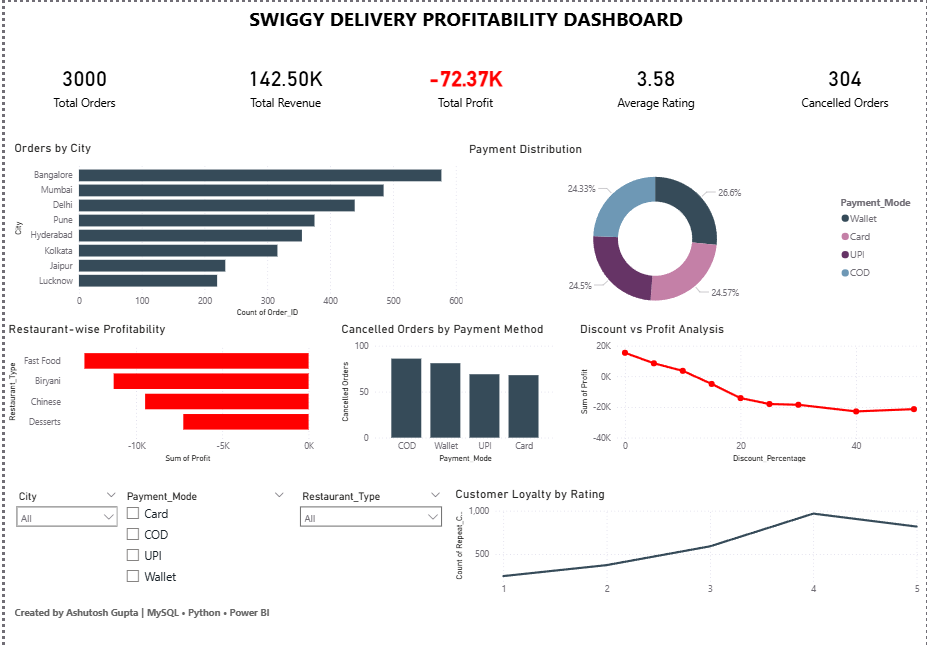

The page's visual inventory and layout, read from the dashboard file:
{"tool":"powerbi","page":{"name":"Page 1","canvas":[1280,900],"ordinal":0},"visuals":[{"type":"card","fields":{"Values":["CountNonNull(swiggy_delivery_profitability_dataset.Order_ID)"]},"box":[0,60.4,220,110],"z":0},{"type":"card","fields":{"Values":["Sum(swiggy_delivery_profitability_dataset.Net_Revenue)"]},"box":[280,60.4,220,110],"z":1000},{"type":"card","fields":{"Values":["Sum(swiggy_delivery_profitability_dataset.Profit)"]},"box":[530,60.4,220,110],"z":2000},{"type":"card","fields":{"Values":["Avg(swiggy_delivery_profitability_dataset.Rating)"]},"box":[793.3,60.4,220,110],"z":3000},{"type":"card","fields":{"Values":["swiggy_delivery_profitability_dataset.Cancelled Orders"]},"box":[1056.7,60,220,110],"z":4000},{"type":"clusteredBarChart","title":"Orders by City","fields":{"Category":["swiggy_delivery_profitability_dataset.City"],"Y":["CountNonNull(swiggy_delivery_profitability_dataset.Order_ID)"]},"box":[7.5,192.5,632.5,250],"z":5000},{"type":"donutChart","title":"Payment Distribution","fields":{"Category":["swiggy_delivery_profitability_dataset.Payment_Mode"],"Y":["CountNonNull(swiggy_delivery_profitability_dataset.Order_ID)"]},"box":[640,193.7,640,250],"z":6000},{"type":"clusteredBarChart","title":"Restaurant-wise Profitability","fields":{"Category":["swiggy_delivery_profitability_dataset.Restaurant_Type"],"Y":["Sum(swiggy_delivery_profitability_dataset.Profit)"]},"box":[0,443.7,433.3,200],"z":7000},{"type":"clusteredColumnChart","title":"Cancelled Orders by Payment Method","fields":{"Category":["swiggy_delivery_profitability_dataset.Payment_Mode"],"Y":["swiggy_delivery_profitability_dataset.Cancelled Orders"]},"box":[463.3,443.3,306.7,200],"z":8000},{"type":"lineChart","title":"Discount vs Profit Analysis","fields":{"Y":["Sum(swiggy_delivery_profitability_dataset.Profit)"],"Category":["swiggy_delivery_profitability_dataset.Discount_Percentage"]},"box":[793.3,443.7,483.3,200],"z":9000},{"type":"slicer","fields":{"Values":["swiggy_delivery_profitability_dataset.City"]},"box":[6.7,673.3,160,160],"z":10000},{"type":"slicer","fields":{"Values":["swiggy_delivery_profitability_dataset.Payment_Mode"]},"box":[156.7,673.7,243.3,160],"z":11000},{"type":"slicer","fields":{"Values":["swiggy_delivery_profitability_dataset.Restaurant_Type"]},"box":[400,673.7,216.7,160],"z":12000},{"type":"lineChart","title":"Customer Loyalty by Rating","fields":{"Category":["swiggy_delivery_profitability_dataset.Rating"],"Y":["CountNonNull(swiggy_delivery_profitability_dataset.Repeat_Customer)"]},"box":[620,673.7,660,160],"z":13000},{"type":"textbox","box":[291.2,0,697.5,60],"z":14000},{"type":"textbox","box":[7.5,832.5,455,50],"z":15000}]}

Visuals, with their boxes in screenshot pixels (x1, y1, x2, y2), scaled from the page's 1280x900 canvas onto the 927x648 screenshot:
card - CountNonNull(swiggy_delivery_profitability_dataset.Order_ID): bbox(0, 43, 159, 123)
card - Sum(swiggy_delivery_profitability_dataset.Net_Revenue): bbox(203, 43, 362, 123)
card - Sum(swiggy_delivery_profitability_dataset.Profit): bbox(384, 43, 543, 123)
card - Avg(swiggy_delivery_profitability_dataset.Rating): bbox(575, 43, 734, 123)
card - swiggy_delivery_profitability_dataset.Cancelled Orders: bbox(765, 43, 925, 122)
"Orders by City" clusteredBarChart: bbox(5, 139, 464, 319)
"Payment Distribution" donutChart: bbox(464, 139, 926, 319)
"Restaurant-wise Profitability" clusteredBarChart: bbox(0, 319, 314, 463)
"Cancelled Orders by Payment Method" clusteredColumnChart: bbox(336, 319, 558, 463)
"Discount vs Profit Analysis" lineChart: bbox(575, 319, 925, 463)
slicer - swiggy_delivery_profitability_dataset.City: bbox(5, 485, 121, 600)
slicer - swiggy_delivery_profitability_dataset.Payment_Mode: bbox(113, 485, 290, 600)
slicer - swiggy_delivery_profitability_dataset.Restaurant_Type: bbox(290, 485, 447, 600)
"Customer Loyalty by Rating" lineChart: bbox(449, 485, 926, 600)
textbox: bbox(211, 0, 716, 43)
textbox: bbox(5, 599, 335, 635)
